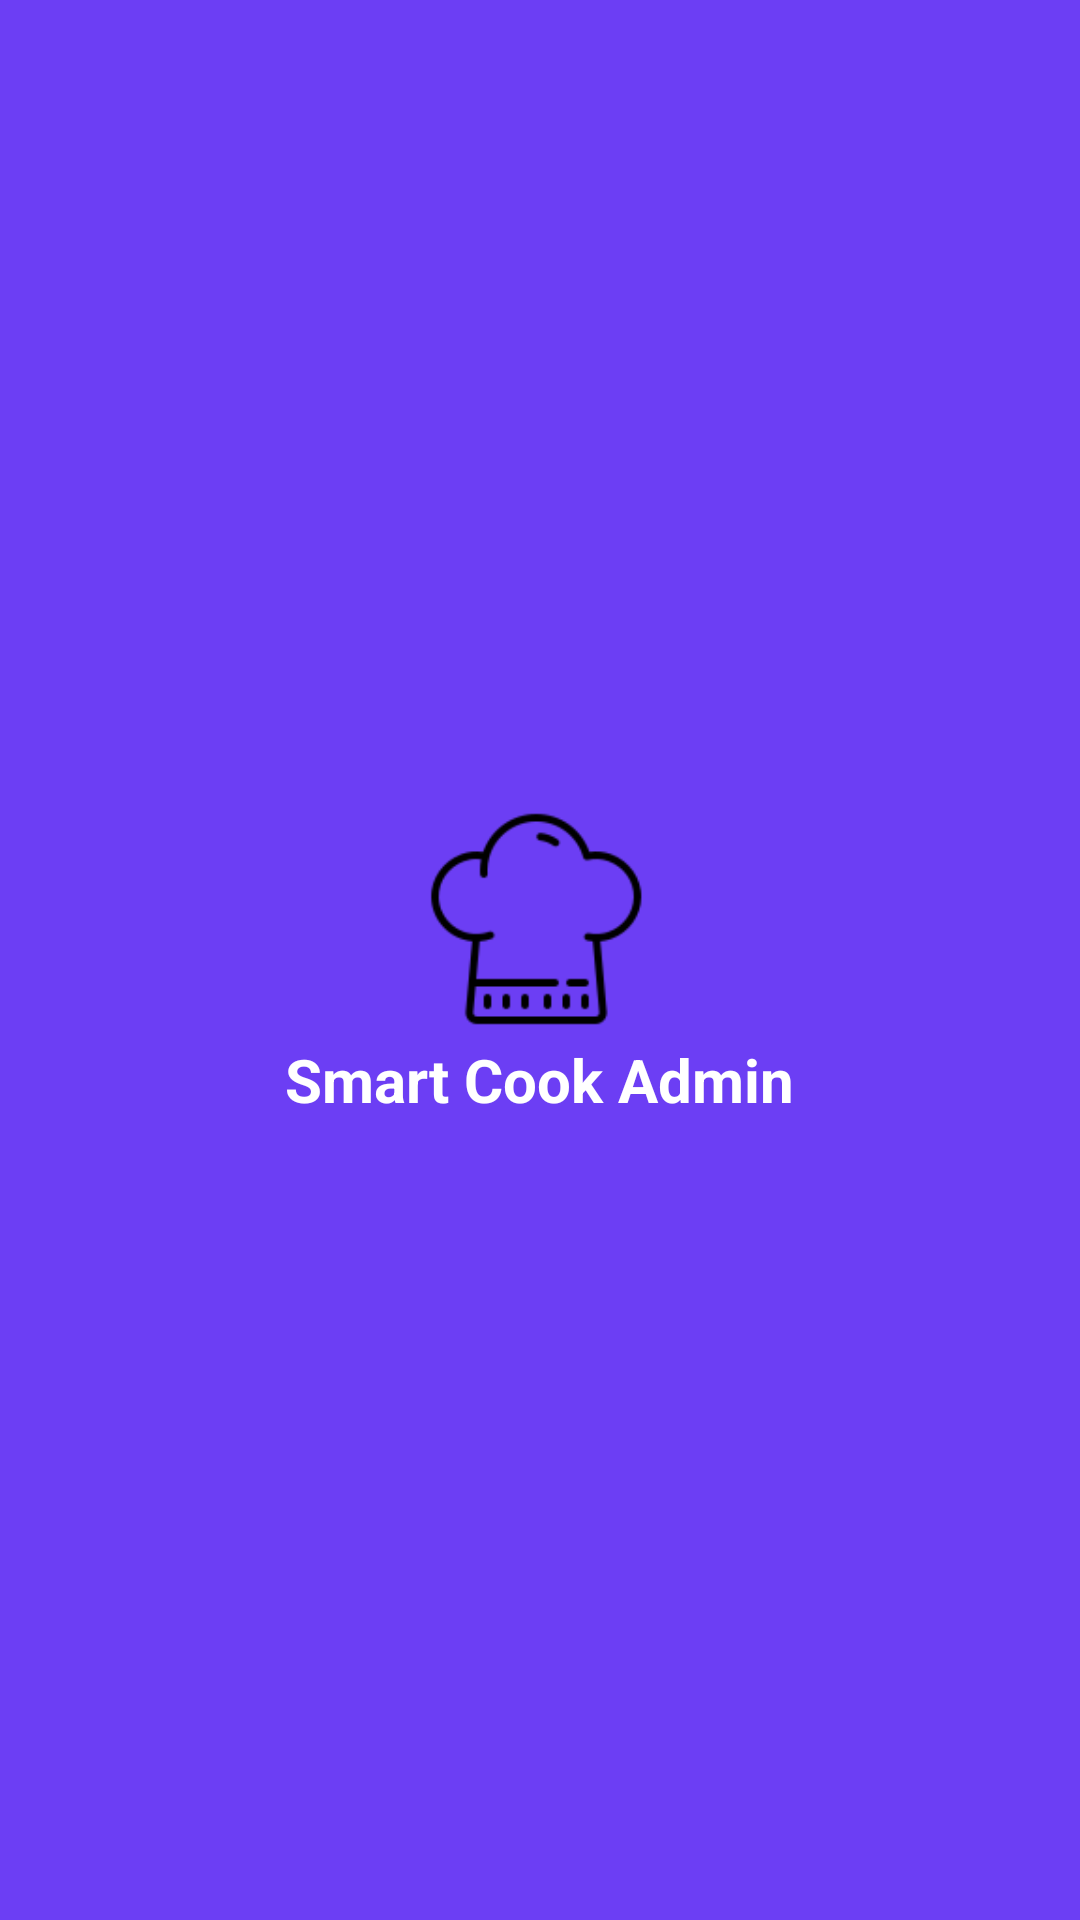

Screen size 1080x1920. Icon name, then its box in pixels as (x1, y1, x2, y2):
chef: (431, 813, 642, 1025)
